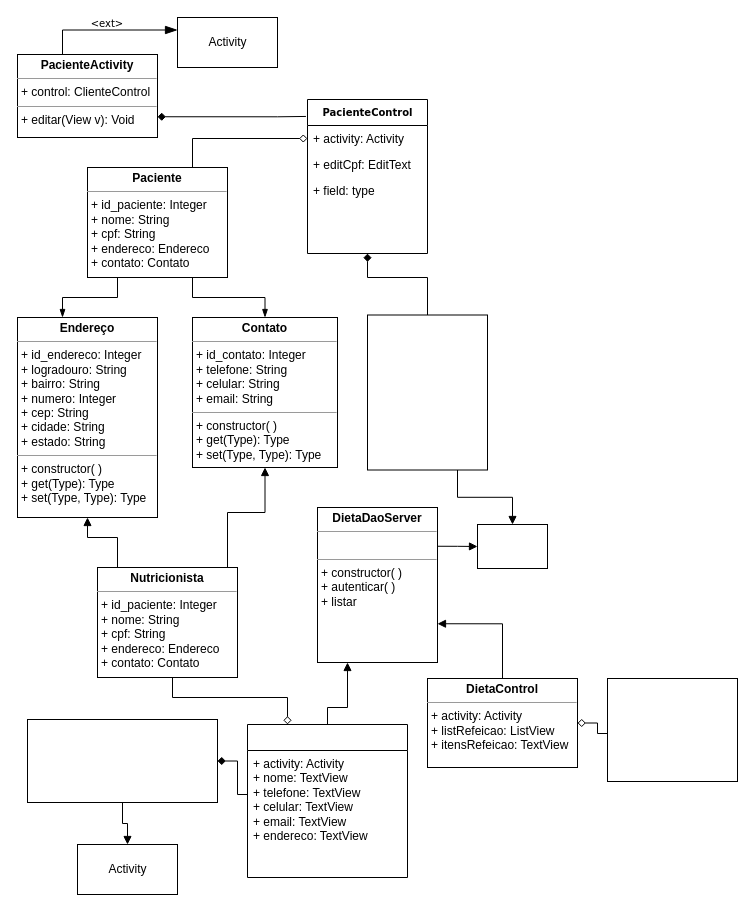
The diagram is 755 pixels wide and 912 high, and some of its shapes have lost their labels. The shapes that lost their labels are listed below. From the top down, each one's box as (x1, y1, x2, y2) in pixels, then its label:
(366, 314, 488, 470): PacienteDaoServer + constructor( ) + autenticar( ) + listar
(476, 524, 548, 568): API
(606, 678, 738, 782): Dieta + id_dieta: Integer + data: Date + descricao: String + refeicao: Refeicao
(26, 718, 218, 802): ContatoNutricionistaActivity + control: NutricionistaControl
(246, 724, 408, 878): NutricionistaControl
